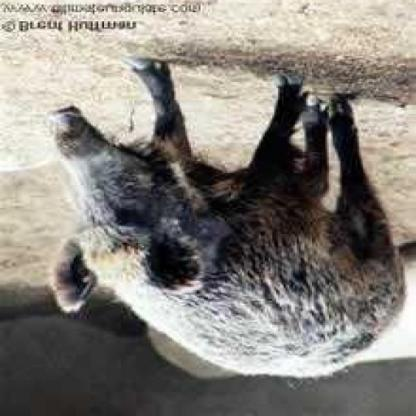boar: (20, 22, 415, 374)
